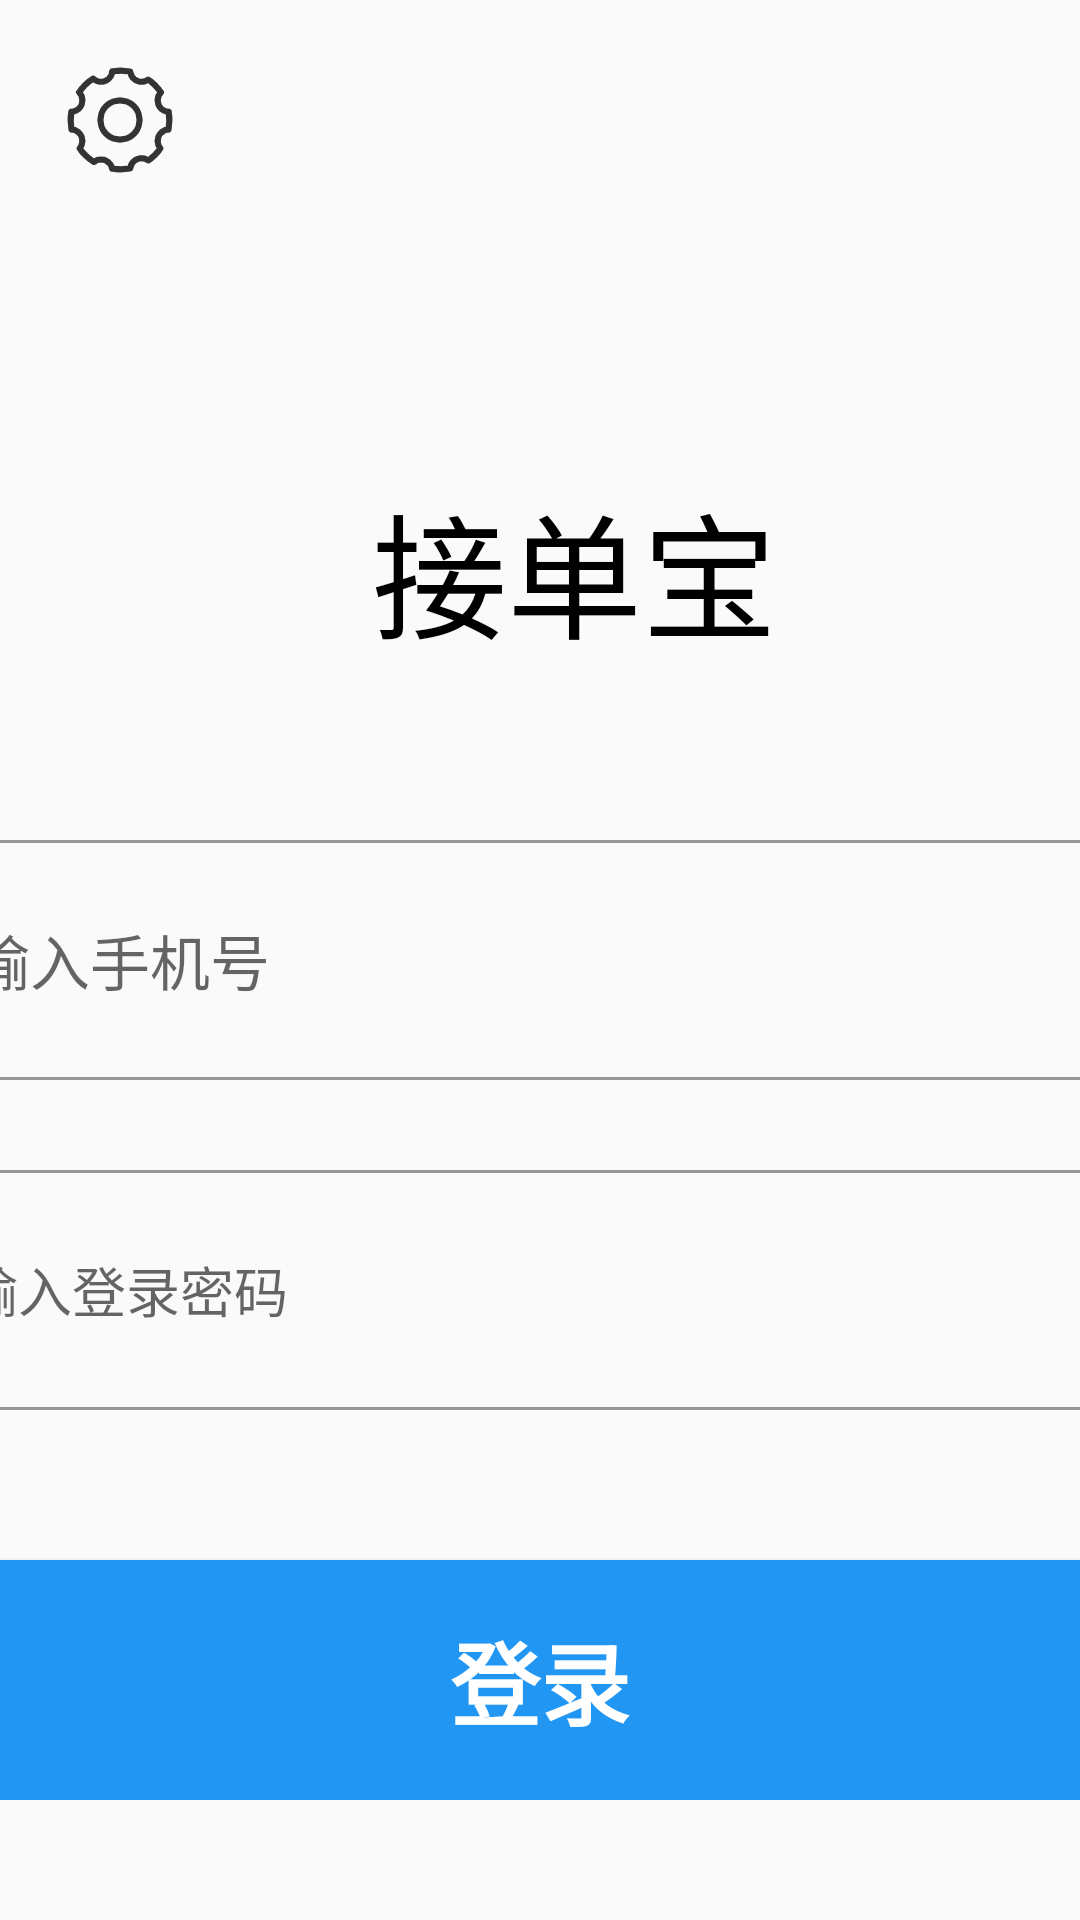

Point at icon controls on the screen. Image size 1080px×1920px, points as (x,y).
set: (120,120)
